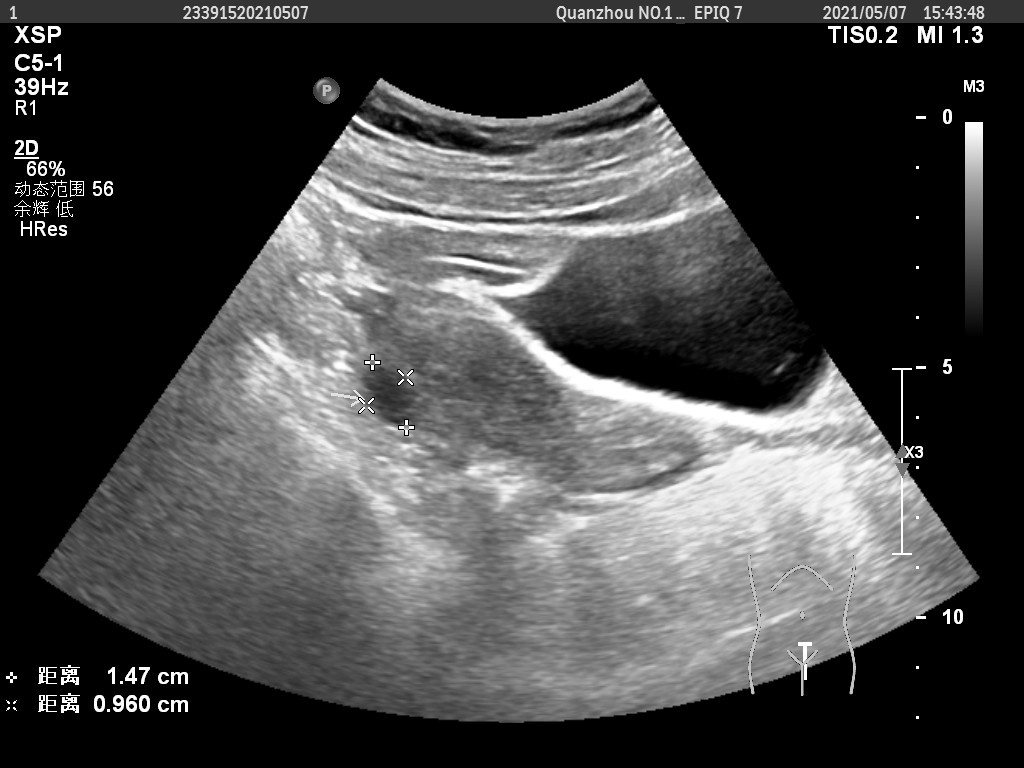肌瘤: (368, 369, 410, 426)
